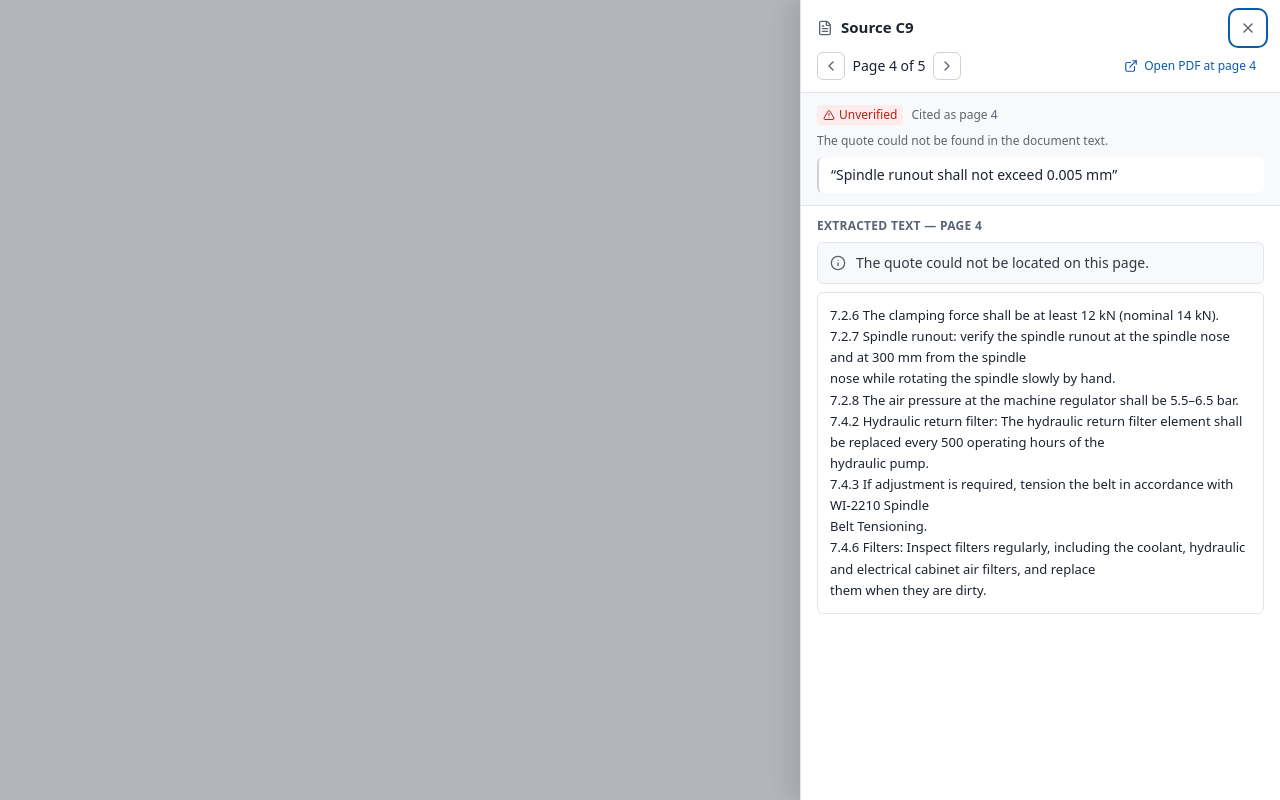
SourceViewer › says when the quote cannot be located and navigates pages
Expected: the text "The quote could not be located on this page." is shown, [856,253,1149,273]
Click the button named "Next page" at {"x": 947, "y": 66}, box [933,52,961,80]
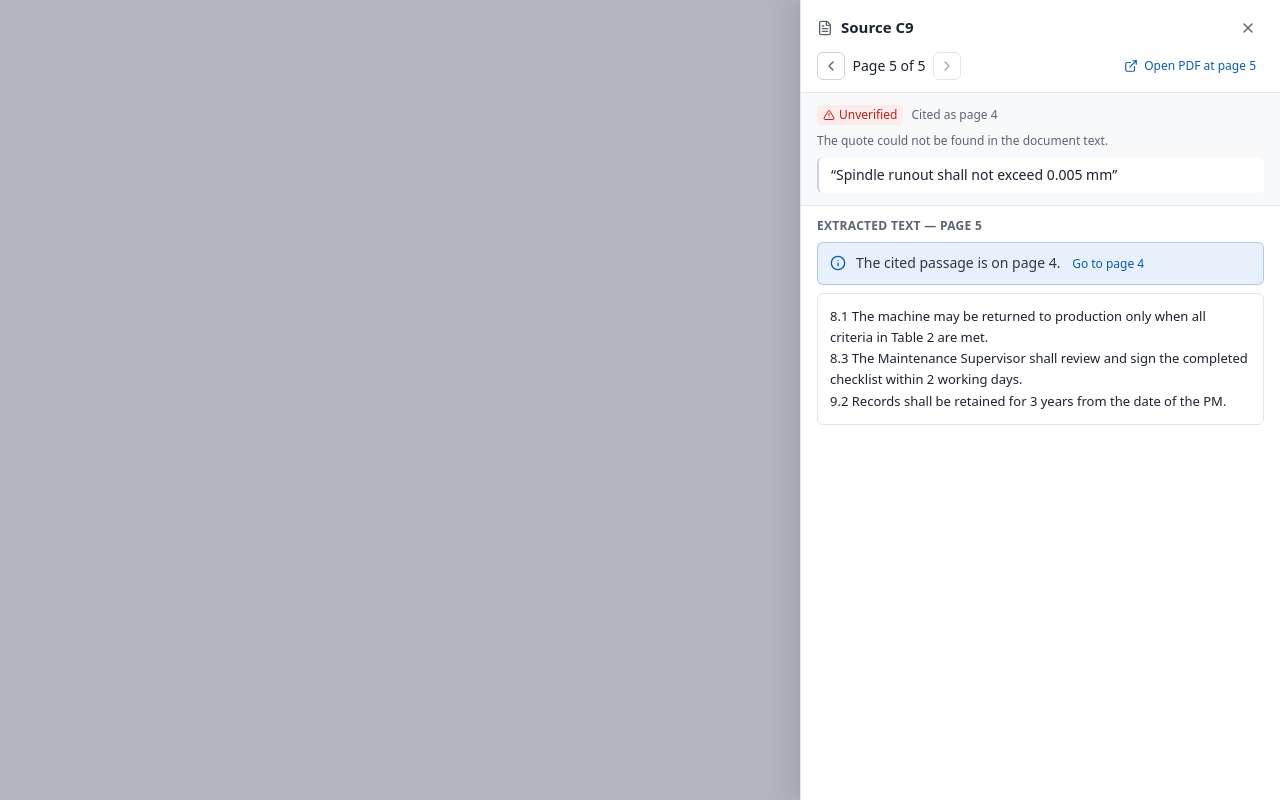
Now the text "Page 5 of 5" is shown, box [849,56,929,76]
Click the button "Go to page 4" at {"x": 1108, "y": 264}, box [1064,250,1152,278]
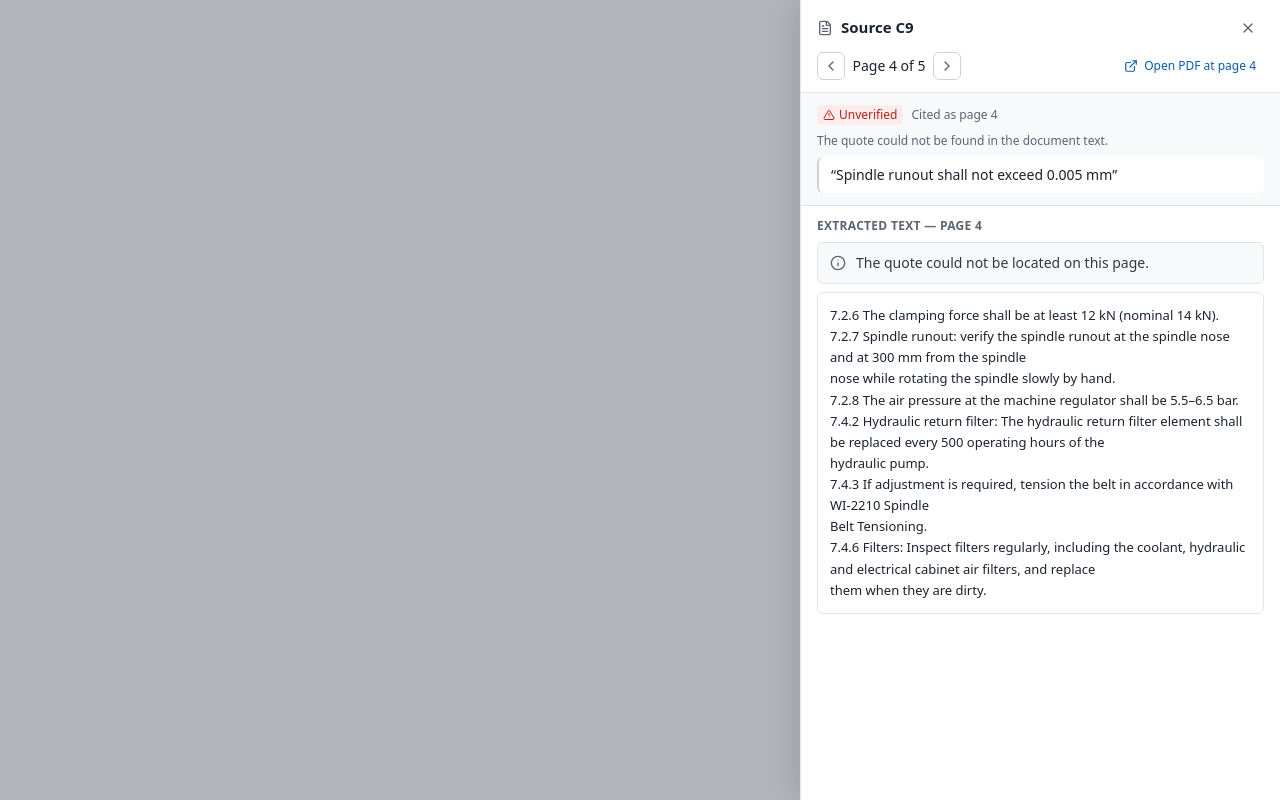
Now the text "Page 4 of 5" is shown, box [849,56,929,76]
